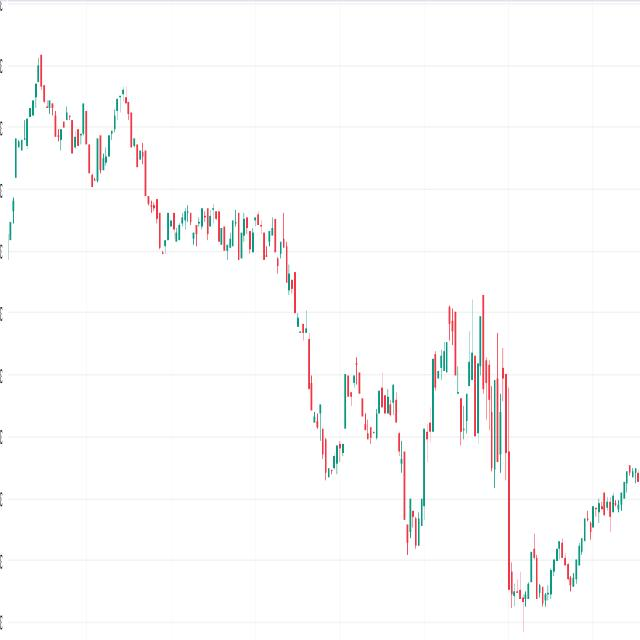rectangle: (150, 180, 296, 280)
